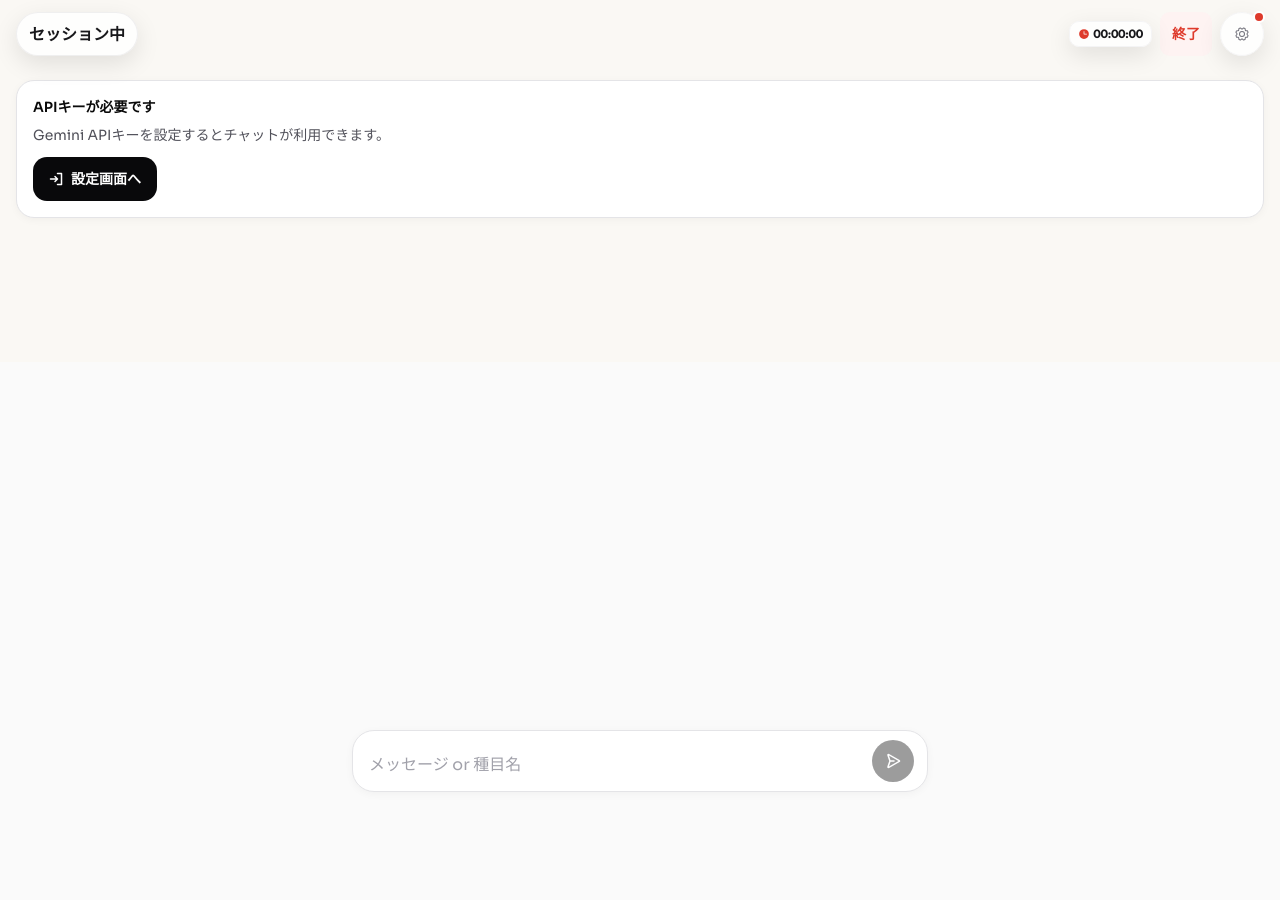
Test: TrainingPage › 終了クリックでセッションを終了してIdleViewに戻る
Click the button "終了" at coordinates (1186, 34), box [1160, 12, 1212, 56]
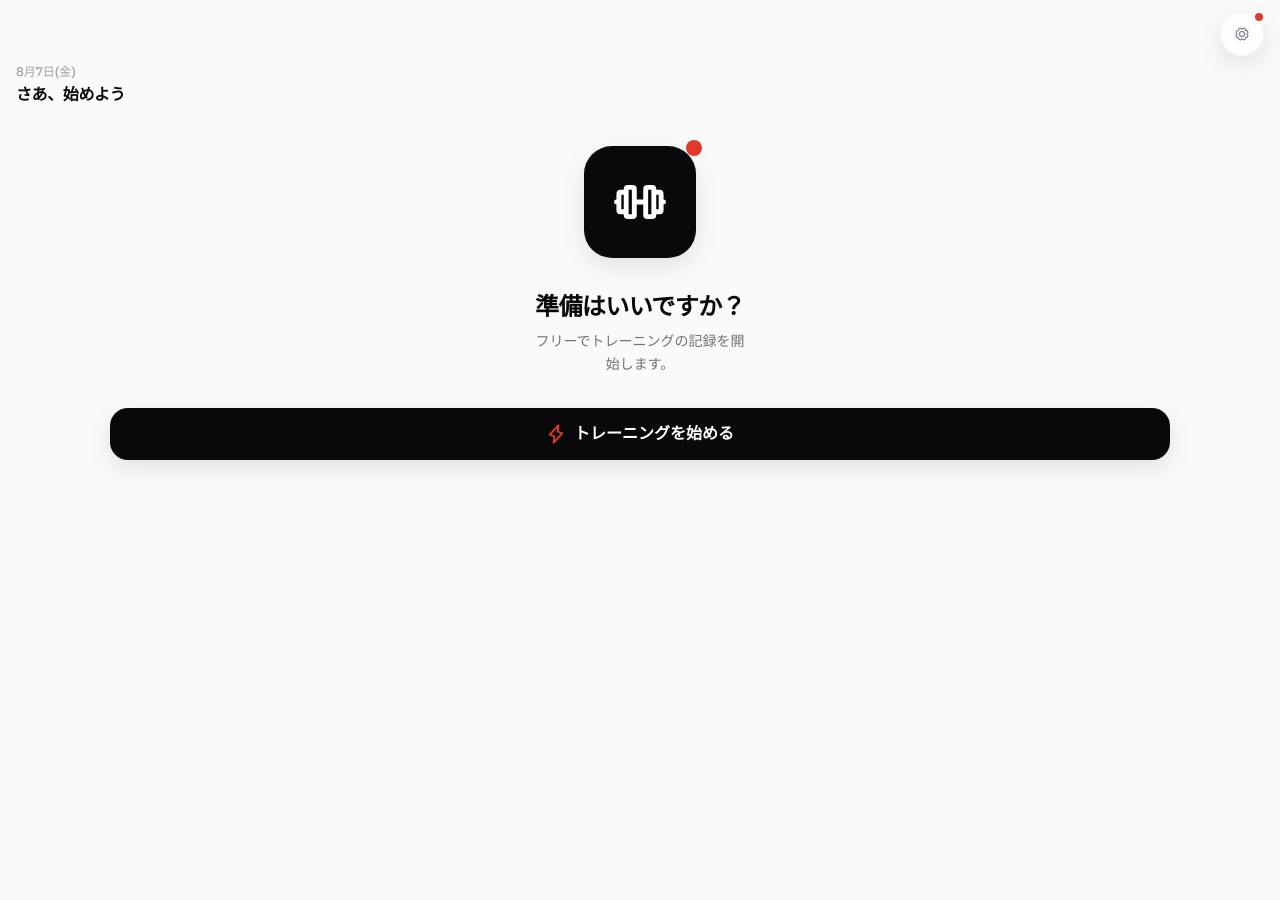
Expected: the button "トレーニングを始める" is shown, [110, 408, 1170, 460]
